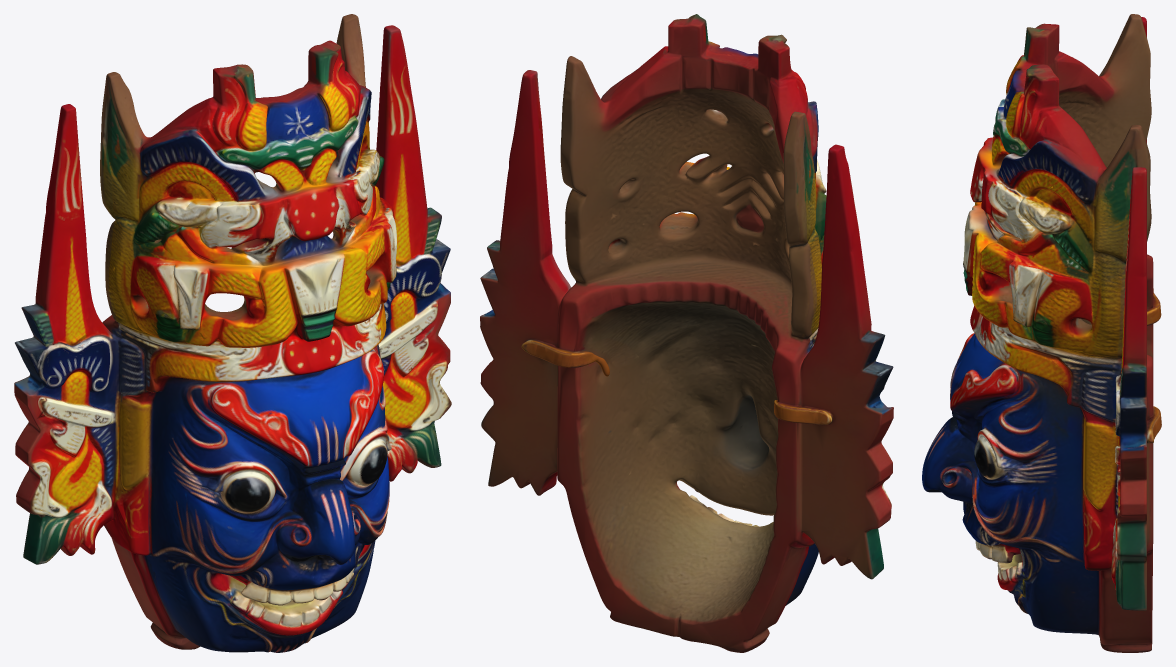
3 views of the same model, side by side, from view 1: azimuth 30°, elevation 25°; view 2: azimuth 150°, elevation 25°; view 3: azimuth 270°, elevation 25° (orthographic). The views are drawn at different scales.
Visible parts, largest first — view 1: node_0; view 2: node_0; view 3: node_0.
Part boxes in pixels (x1,y1,x2,y2): node_0: (14,14,451,652); node_0: (480,14,893,652); node_0: (922,14,1161,652).
Size of the model in its own units: 0.8226 by 1.12 by 0.4222.
Materials: 1 (1 with a texture image).
